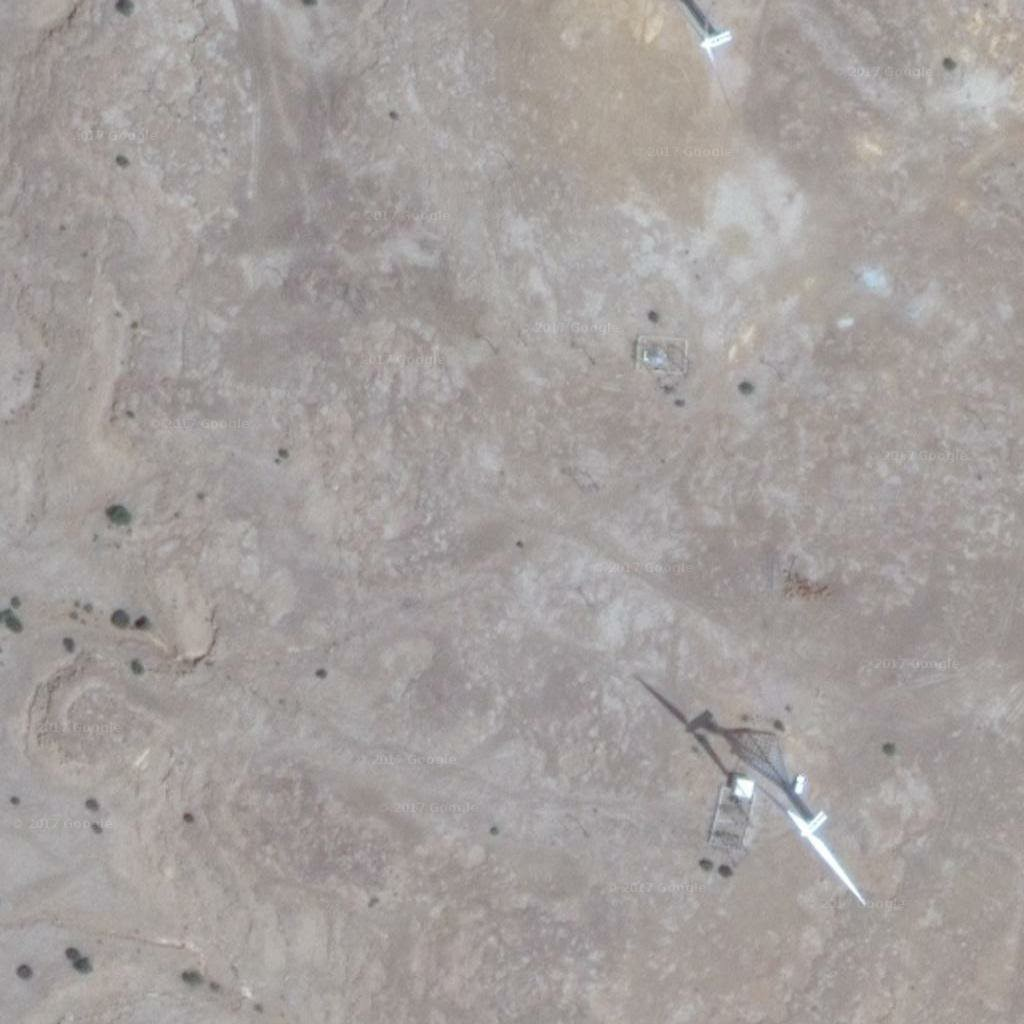Windmill: (656, 20, 751, 92)
